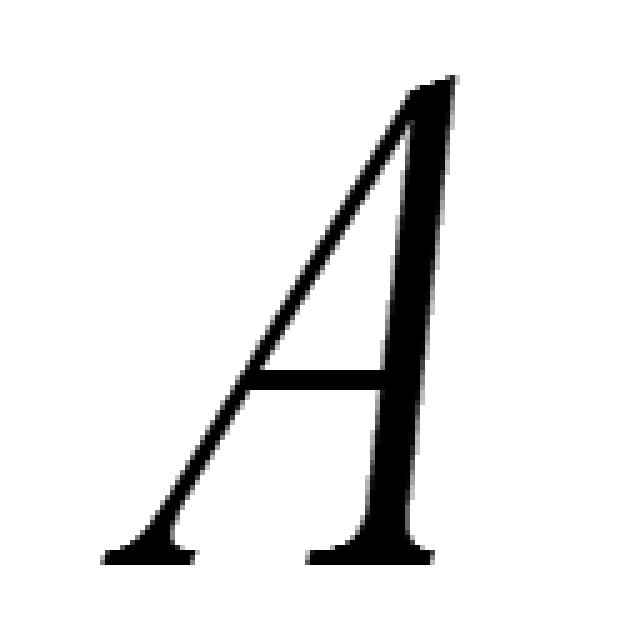A: (95, 65, 465, 575)
